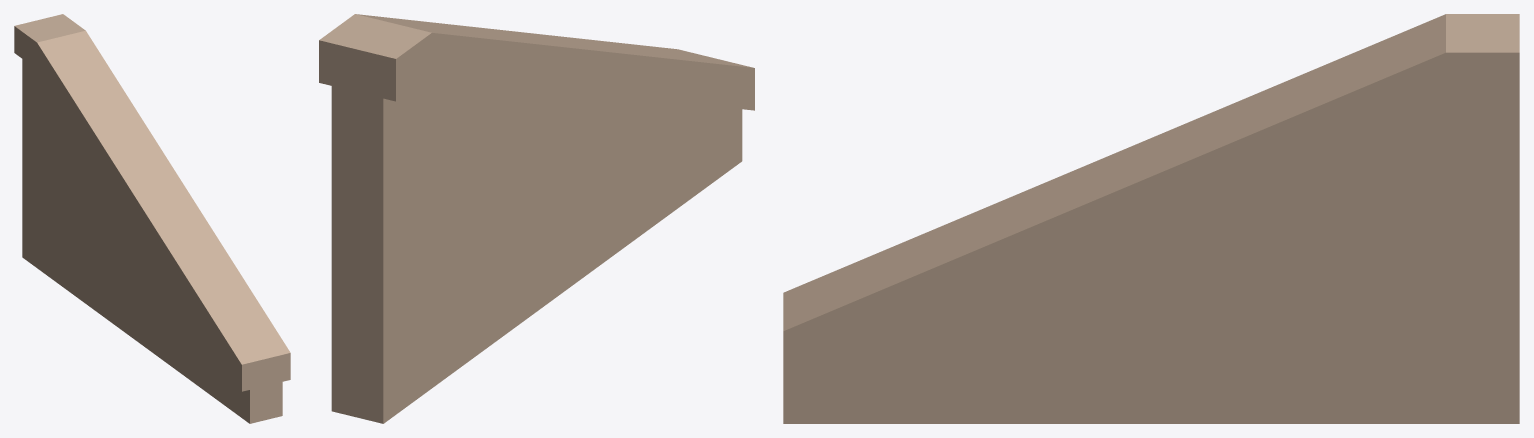
File: BC_StairWall_B.fbx
The picture shows the model from 3 angles, left to right: view 1: azimuth 30°, elevation 25°; view 2: azimuth 150°, elevation 25°; view 3: azimuth 270°, elevation 25°; orthographic projection. The views are drawn at different scales.
Visible parts, largest first — view 1: BC_StairWall_B; view 2: BC_StairWall_B; view 3: BC_StairWall_B.
Part boxes in pixels (x1,y1,x2,y2): BC_StairWall_B: [14, 14, 290, 423]; BC_StairWall_B: [319, 14, 754, 423]; BC_StairWall_B: [783, 14, 1519, 423].
Bounding box in the file's own units: 79.53 × 363 × 642.
